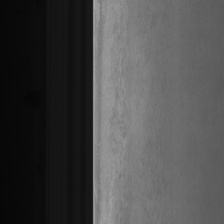silk_spot: (108, 36, 136, 196)
